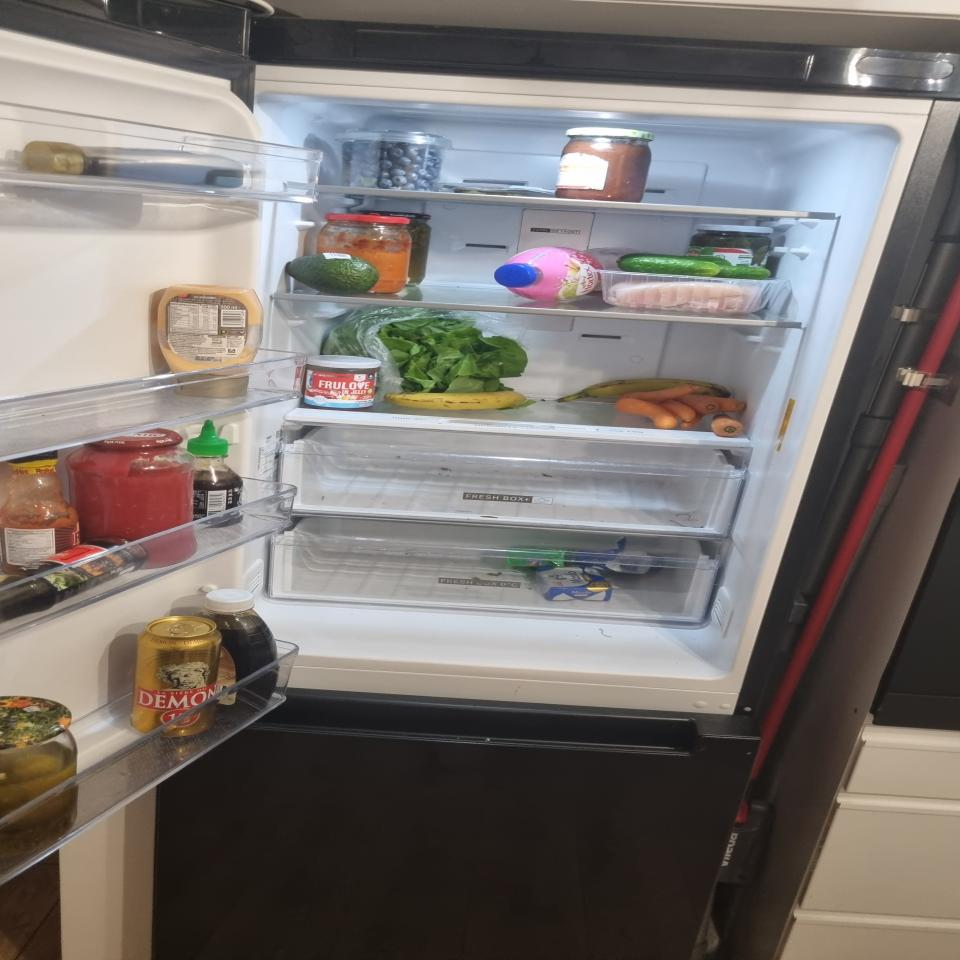Aguacate: (286, 253, 379, 295)
Carne pollo: (594, 269, 786, 314)
Lechuga/Endivia: (322, 304, 528, 392)
Mantequilla: (568, 537, 667, 576), (534, 565, 613, 602), (506, 546, 577, 567)
Pepino: (616, 253, 772, 280)
Plátano: (557, 378, 731, 403), (384, 390, 528, 410)
Zanahoria: (615, 384, 746, 437)
